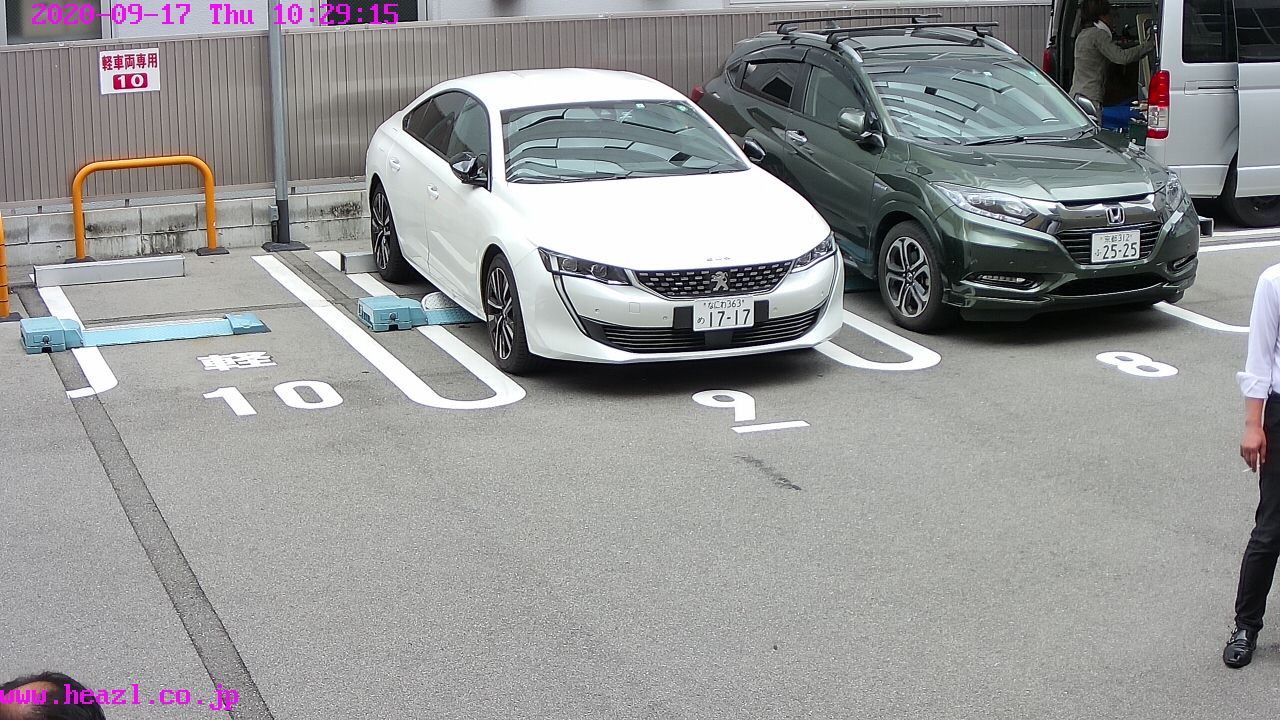number_plate: (691, 296, 757, 328), (1092, 232, 1143, 258)
